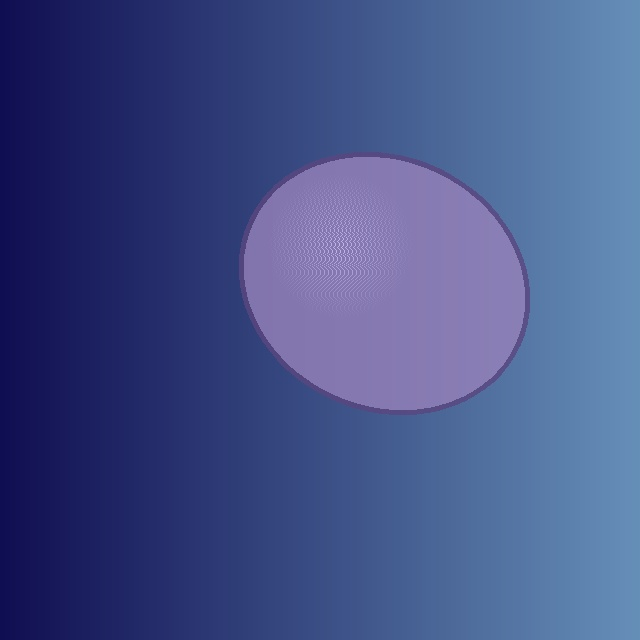lens: (242, 154, 526, 412)
